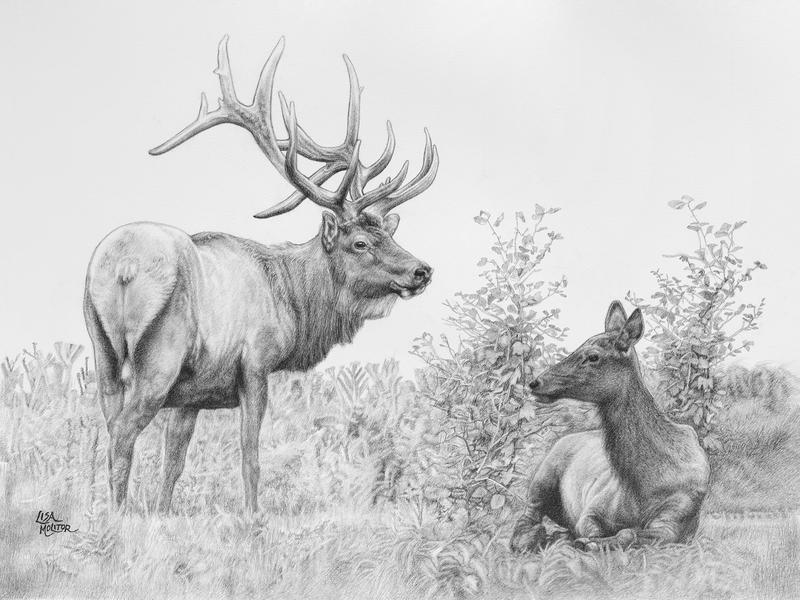elk: (80, 60, 438, 509), (509, 314, 713, 559)
